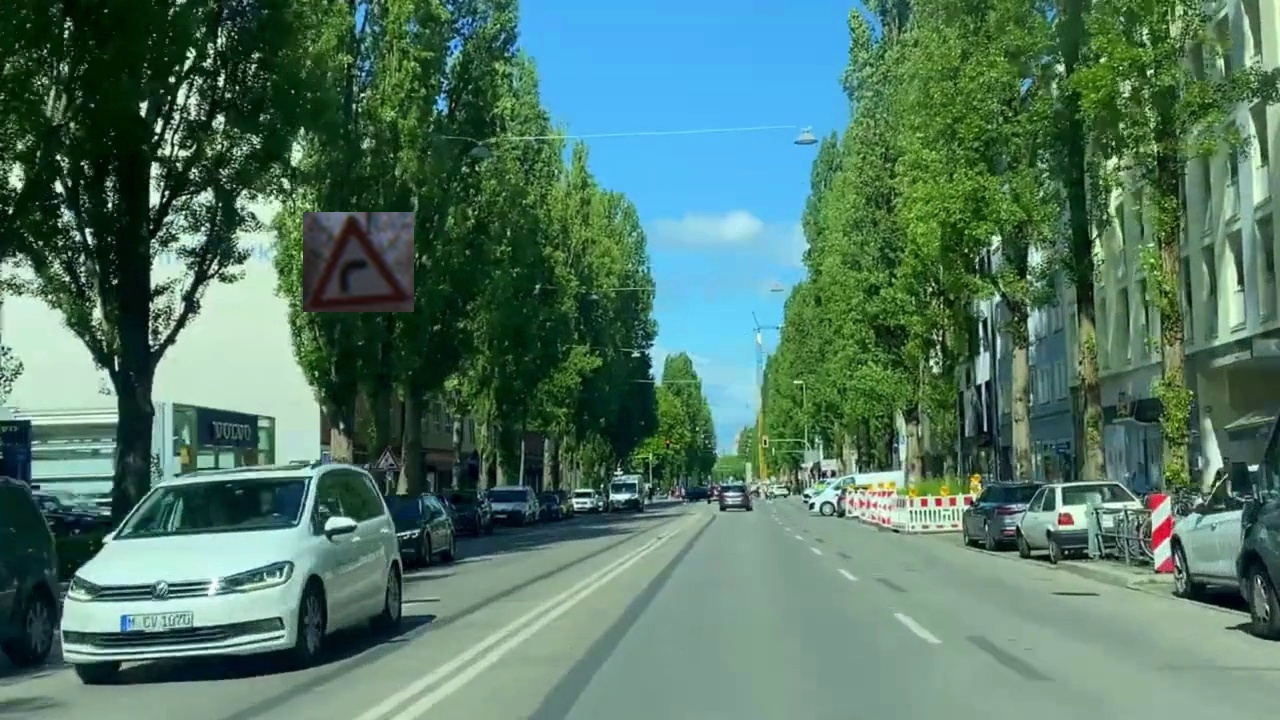Curve right: (303, 212, 414, 312)
